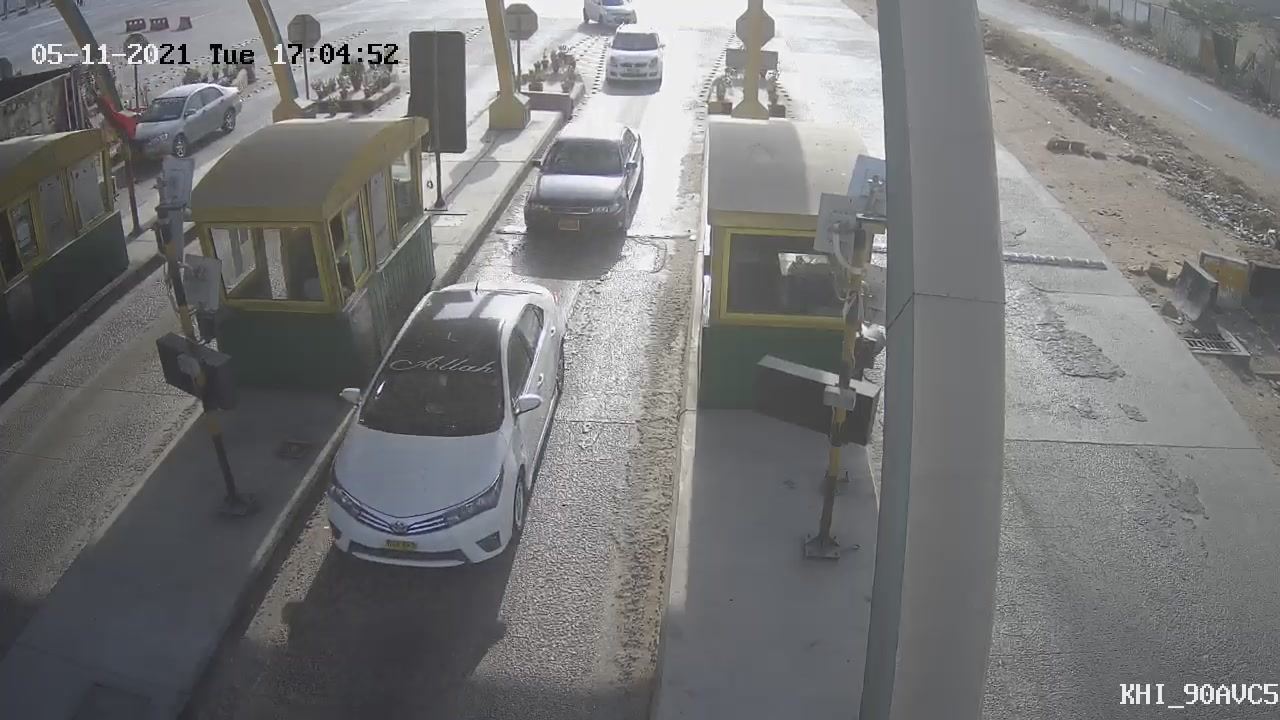F1: (306, 262, 586, 588), (511, 109, 657, 253)
